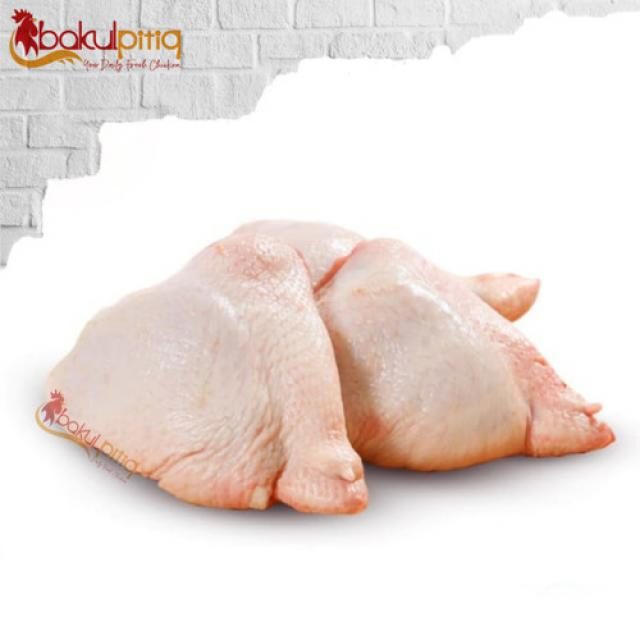chicken: (52, 220, 371, 521), (332, 234, 616, 473)
